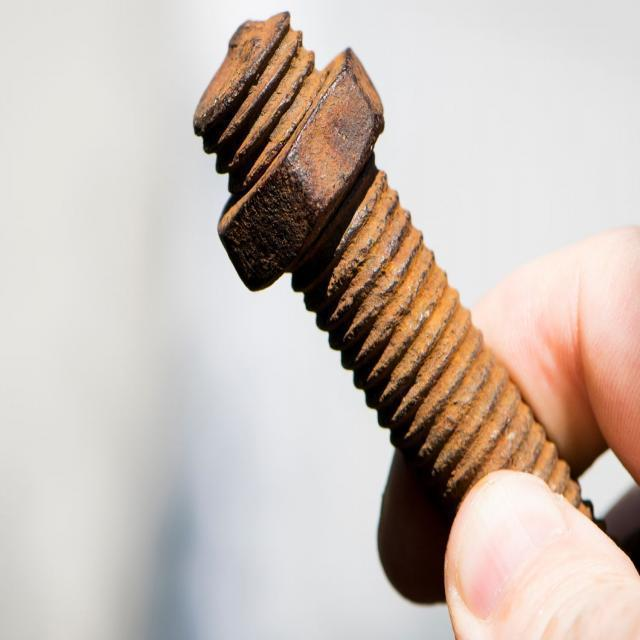Corrosion: (191, 10, 608, 535)
